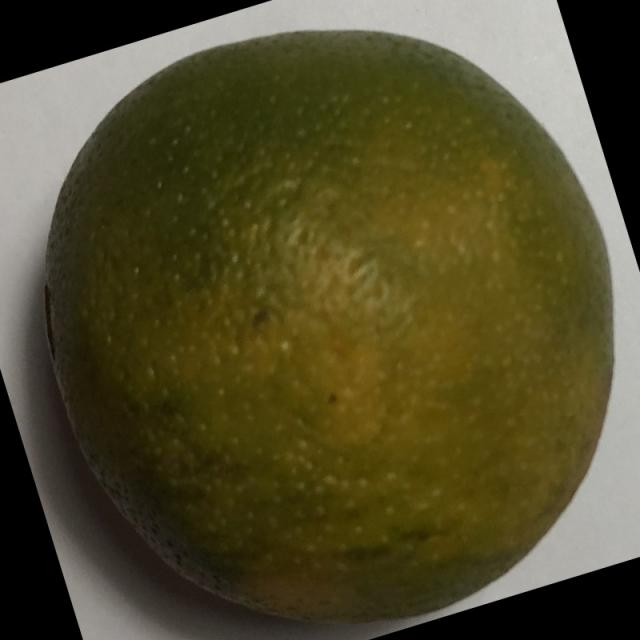canker: (22, 20, 640, 640)
